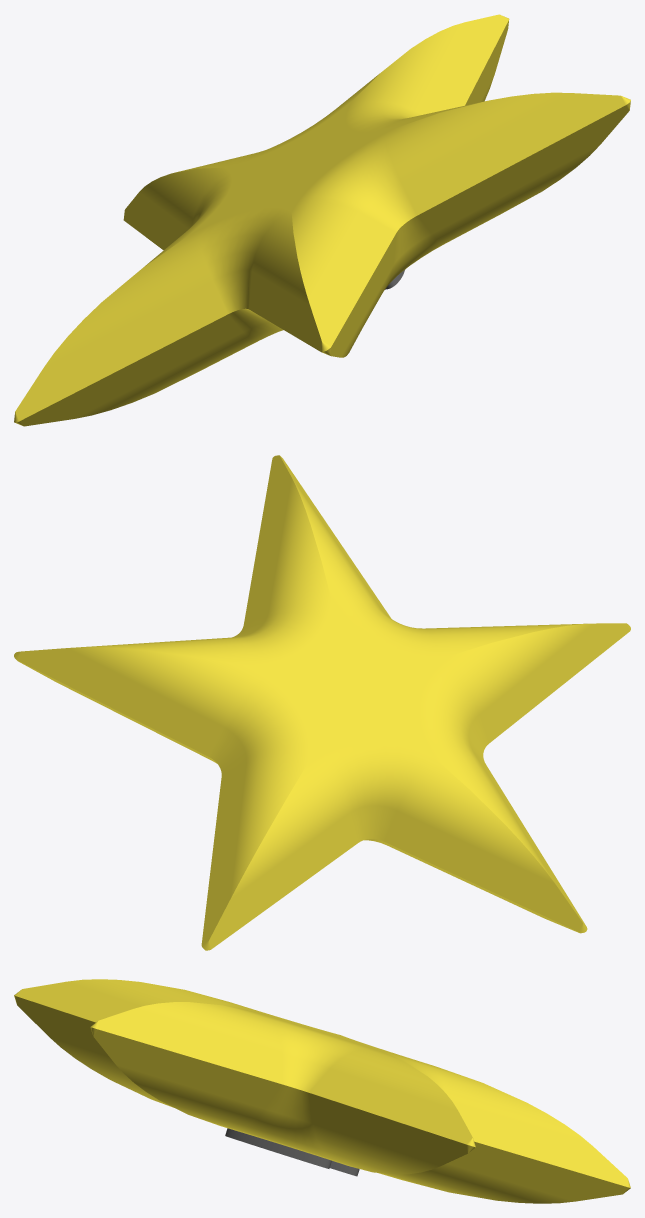
File: power_star.glb
3 renders of one model, top to bottom at view 1: azimuth 30°, elevation 25°; view 2: azimuth 150°, elevation 25°; view 3: azimuth 270°, elevation 25°, orthographic. The views are drawn at different scales.
Parts seen in each view (by area): view 1: Body2; view 2: Body2; view 3: Body2.
Part boxes in pixels (left/top/right/bottom): Body2: left=14, top=14, right=630, bottom=426; Body2: left=14, top=455, right=630, bottom=950; Body2: left=14, top=979, right=630, bottom=1203.
Size of the model in its own units: 0.5059 by 0.2716 by 0.5221.
